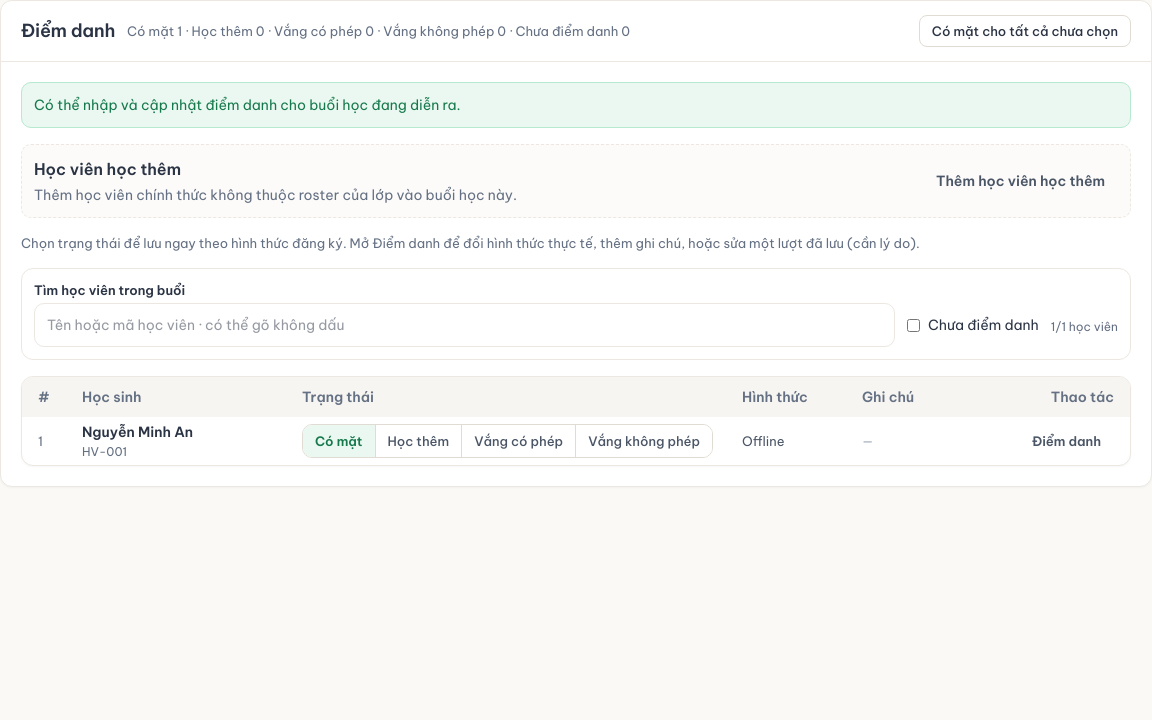
Test case: Session attendance and result presentation › keeps the existing additional-study flow feature-local
What coordinates should you click on to do the following:
click the button "Thêm học viên học thêm"
I would click on:
 (1021, 181)
Its box is [923,161,1118,201].
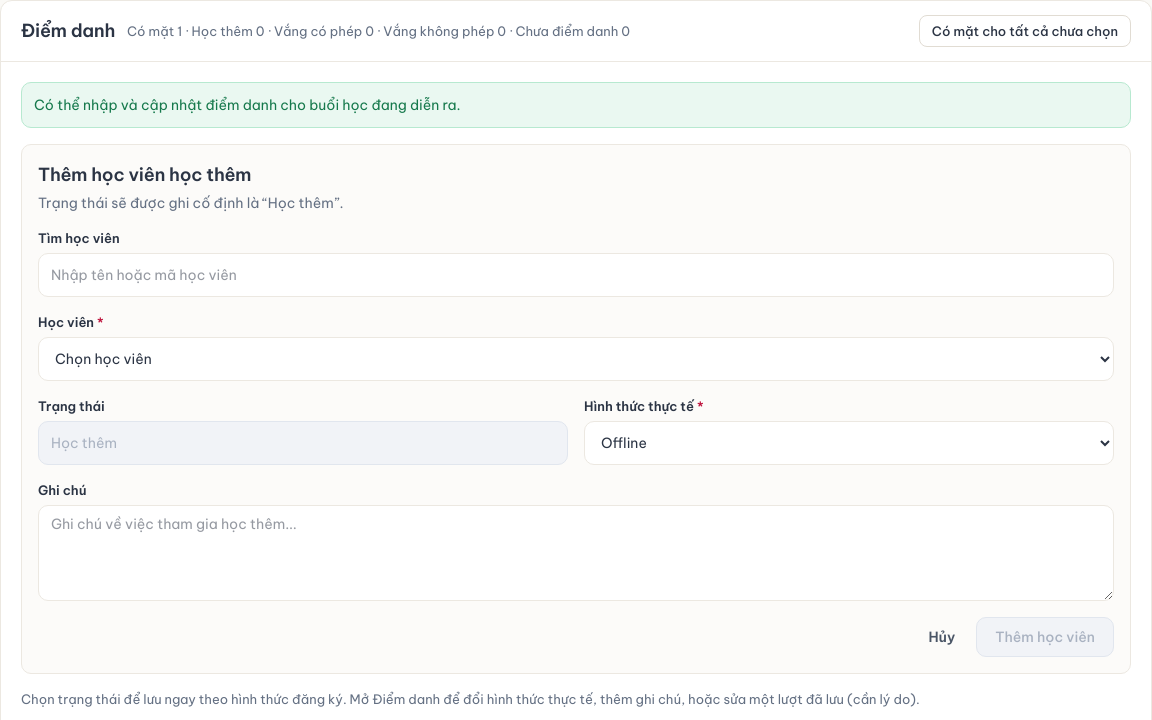
Expected: the heading "Thêm học viên học thêm" is shown, [38,163,251,186]
Expected: the field labelled "Trạng thái" holds "Học thêm", [38,421,568,465]
